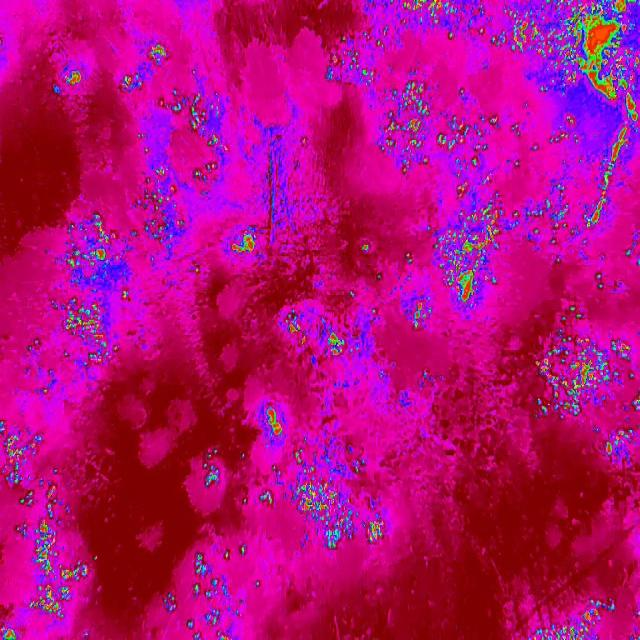fire: (165, 448, 398, 554), (500, 172, 640, 322), (0, 415, 93, 640), (534, 0, 640, 108), (159, 543, 274, 639), (529, 324, 637, 424), (358, 1, 525, 53), (351, 235, 434, 335), (440, 200, 504, 310), (374, 76, 436, 182), (438, 110, 504, 200), (588, 108, 636, 230), (526, 599, 622, 640), (133, 172, 186, 246), (165, 91, 229, 150), (322, 35, 382, 93), (59, 297, 110, 363), (55, 212, 111, 272), (595, 418, 640, 470), (191, 164, 223, 204), (545, 114, 581, 148), (262, 404, 288, 441), (230, 230, 258, 258), (119, 71, 147, 95), (60, 64, 84, 90), (326, 333, 348, 359), (282, 312, 302, 336), (148, 42, 168, 60)
